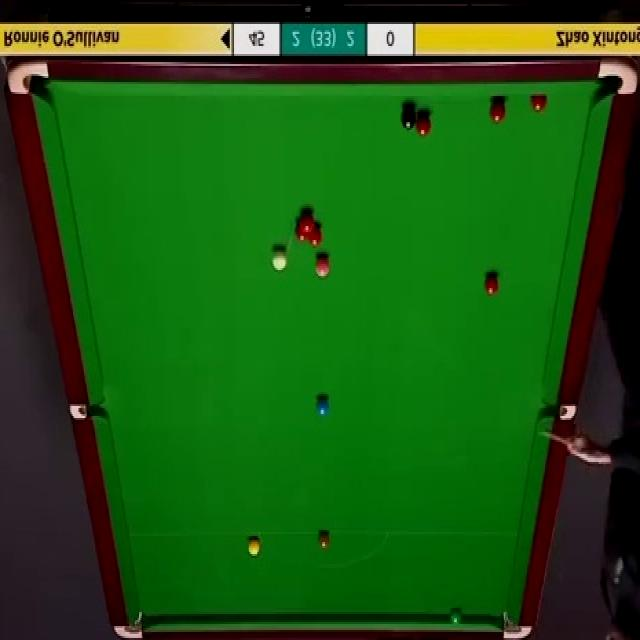black-ball: (401, 102, 417, 129)
blue-ball: (314, 397, 330, 417)
brown-ball: (318, 532, 330, 552)
green-ball: (450, 610, 460, 628)
pink-ball: (317, 253, 332, 279)
red-ball: (487, 99, 508, 126), (415, 110, 432, 136), (529, 94, 549, 112), (484, 271, 498, 296), (294, 218, 308, 242), (309, 222, 322, 246), (300, 210, 316, 229)
white-ball: (272, 249, 287, 273)
yellow-ball: (247, 538, 259, 554)
